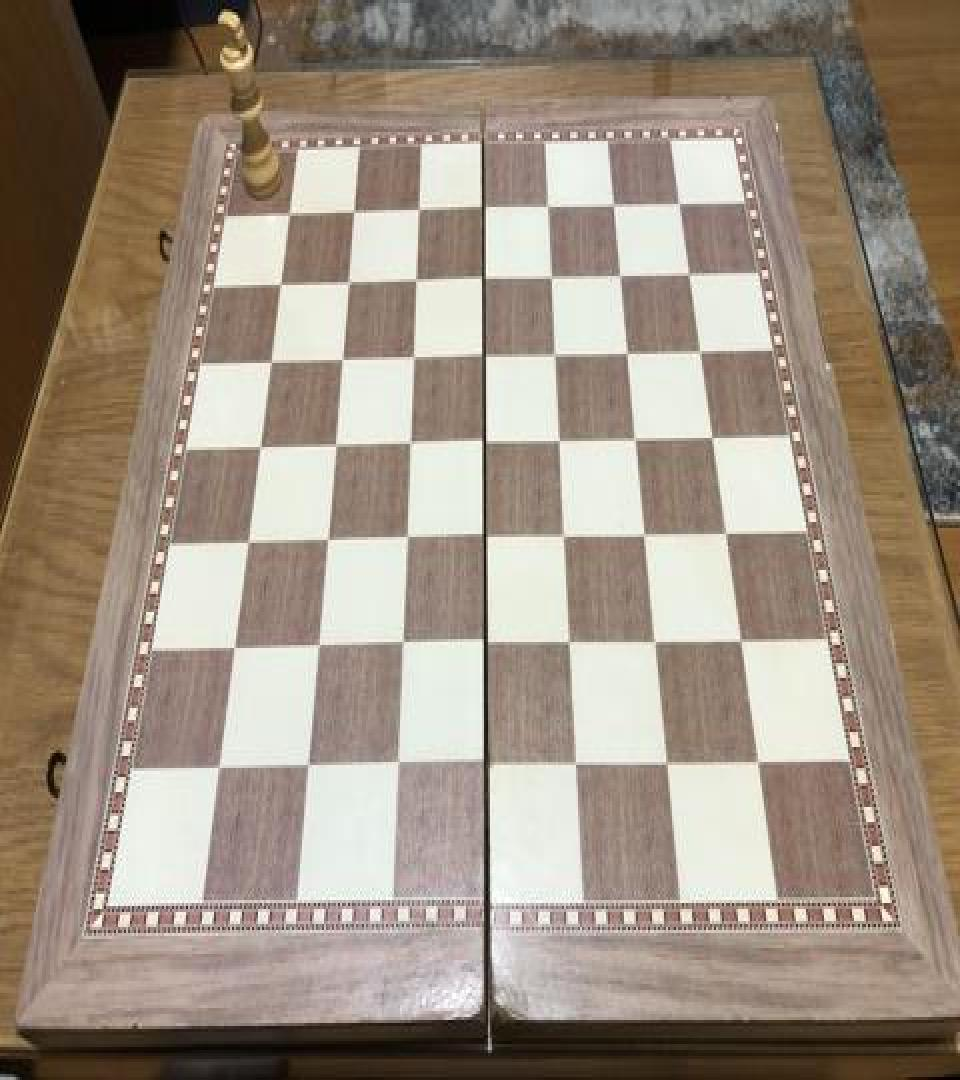xcorner: (636, 514, 660, 551), (477, 625, 501, 662), (657, 742, 681, 779), (209, 754, 233, 791), (669, 183, 693, 219), (604, 186, 628, 222), (474, 190, 498, 226), (410, 192, 434, 228), (345, 195, 369, 231), (281, 196, 305, 232), (679, 254, 703, 290), (611, 256, 635, 292), (543, 258, 567, 294), (475, 261, 499, 297), (407, 262, 431, 298), (339, 266, 363, 302), (272, 267, 296, 303), (690, 332, 714, 368), (618, 333, 642, 369), (547, 336, 571, 372), (475, 338, 499, 374), (404, 340, 428, 376), (333, 342, 357, 378), (262, 345, 286, 381), (702, 417, 726, 453), (626, 418, 650, 454), (551, 422, 575, 458), (476, 423, 500, 459), (400, 426, 424, 462), (326, 428, 350, 464), (716, 512, 740, 548), (556, 516, 580, 552), (476, 519, 500, 555), (397, 522, 421, 558), (317, 524, 341, 560), (238, 526, 262, 562), (731, 620, 755, 656), (646, 621, 670, 657), (561, 624, 585, 660), (392, 628, 416, 664), (308, 630, 332, 666), (224, 633, 248, 669), (748, 741, 772, 777), (567, 746, 591, 782), (477, 747, 501, 783), (387, 750, 411, 786), (298, 752, 322, 788), (539, 188, 563, 223), (251, 431, 275, 466)
